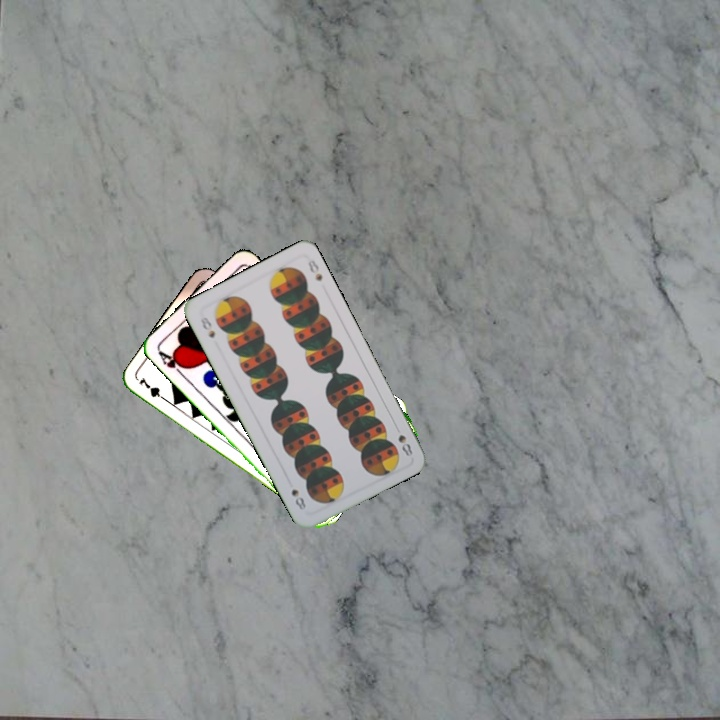G7: (135, 374, 171, 405)
HA: (154, 346, 190, 379)
S8: (196, 313, 218, 341), (394, 430, 415, 459)
